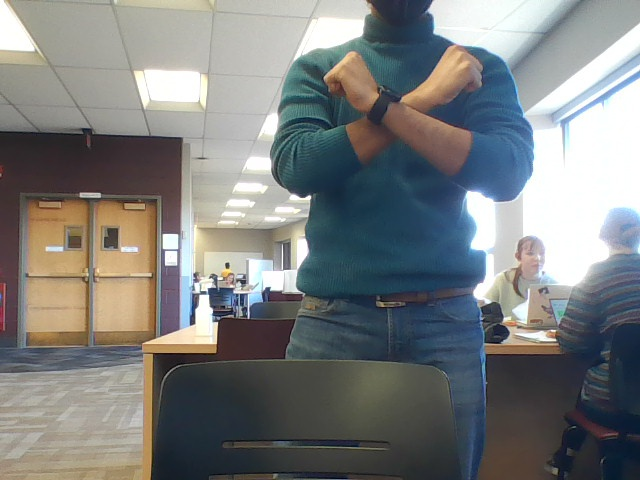cancel: (317, 40, 486, 184)
